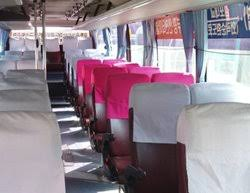seat: (105, 73, 144, 176)
